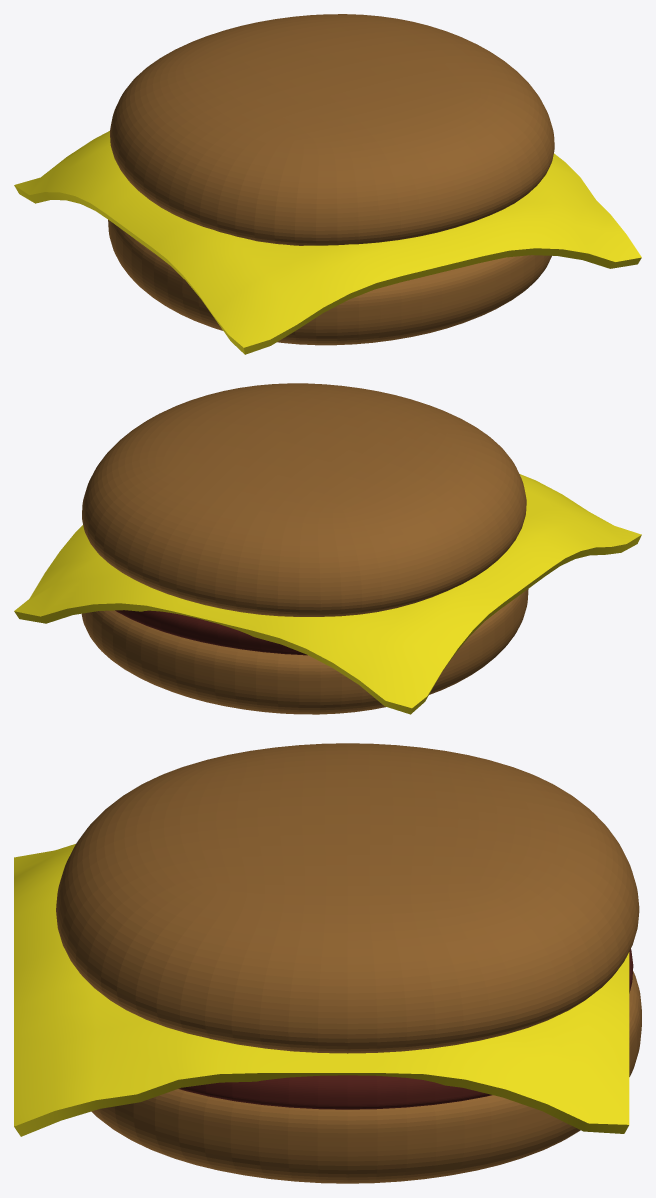
Rendered from hamburge.glb.
3 views of the same model, one above another, from view 1: azimuth 30°, elevation 25°; view 2: azimuth 150°, elevation 25°; view 3: azimuth 270°, elevation 25° (orthographic). The views are drawn at different scales.
Parts seen in each view (by area): view 1: Cube.002, 平面, Cube; view 2: Cube.002, 平面, Cube, Cube.001; view 3: Cube.002, 平面, Cube, Cube.001.
Boxes of the visible parts, box(x1,y1,x2,y2) form: Cube.002: box(110, 14, 554, 245); 平面: box(14, 131, 641, 354); Cube: box(108, 219, 551, 345); Cube.002: box(82, 383, 526, 616); 平面: box(14, 474, 641, 714); Cube: box(81, 589, 528, 714); Cube.001: box(115, 610, 307, 655); Cube.002: box(56, 743, 639, 1053); 平面: box(14, 844, 629, 1136); Cube: box(91, 971, 641, 1183); Cube.001: box(178, 949, 633, 1109).
Bounding box in the file's own units: 7.62 × 3.9 × 7.67.
